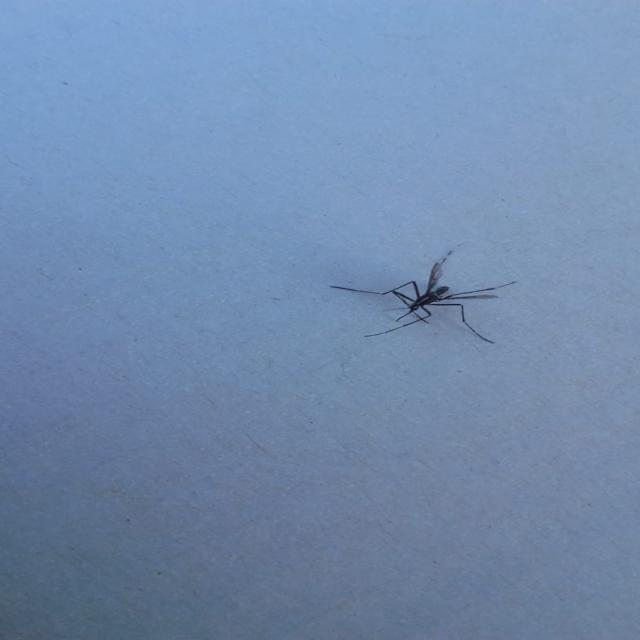albopictus: (325, 235, 525, 347)
